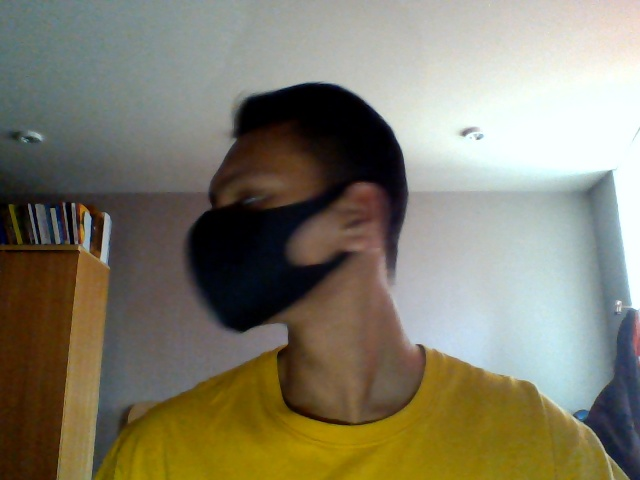mask: (185, 202, 327, 335)
